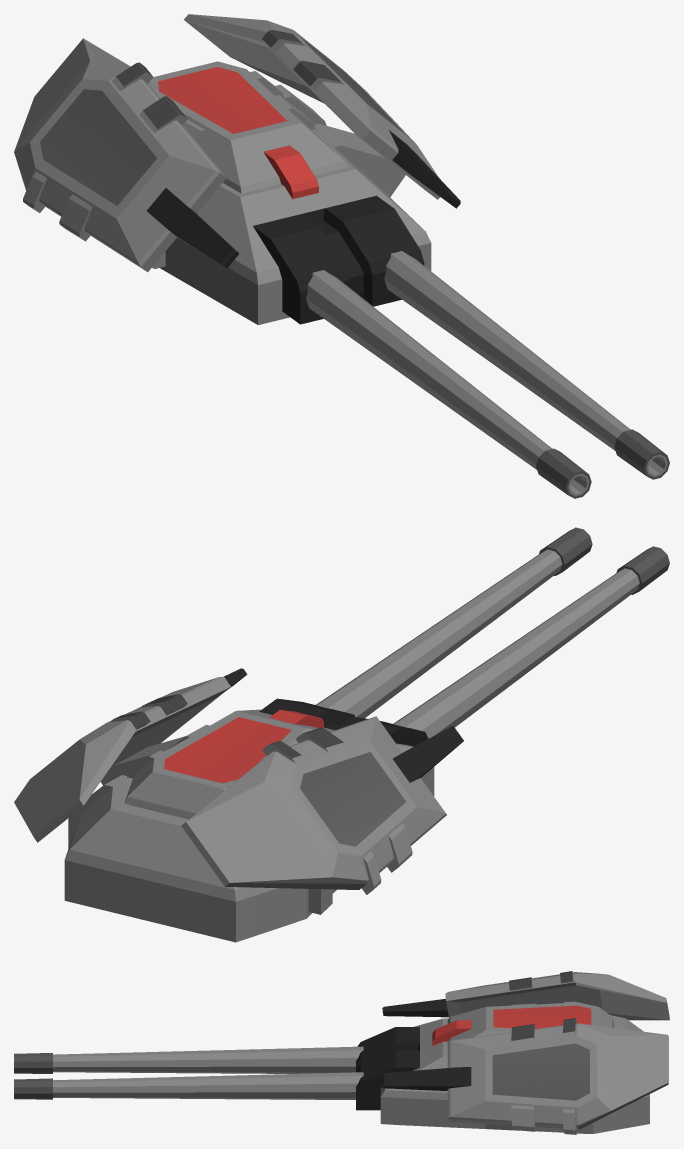
The model's file is model_polyfleet_battleship_canon07.fbx.
The picture shows the model from 3 angles, top to bottom: view 1: azimuth 30°, elevation 25°; view 2: azimuth 150°, elevation 25°; view 3: azimuth 270°, elevation 25°; orthographic projection. The views are drawn at different scales.
Parts seen in each view (by area): view 1: model_cannon07, model_cannon_small_barrels1, model_cannon_small_barrels; view 2: model_cannon07, model_cannon_small_barrels, model_cannon_small_barrels1; view 3: model_cannon07, model_cannon_small_barrels, model_cannon_small_barrels1.
Part boxes in pixels (x1,y1,x2,y2): model_cannon07: (14, 14, 460, 324); model_cannon_small_barrels1: (306, 270, 591, 498); model_cannon_small_barrels: (384, 251, 669, 479); model_cannon07: (14, 668, 463, 942); model_cannon_small_barrels: (316, 527, 592, 718); model_cannon_small_barrels1: (393, 546, 669, 738); model_cannon07: (356, 971, 669, 1134); model_cannon_small_barrels: (14, 1072, 363, 1099); model_cannon_small_barrels1: (14, 1046, 363, 1073).
Bounding box in the file's own units: 365 × 156 × 870.
